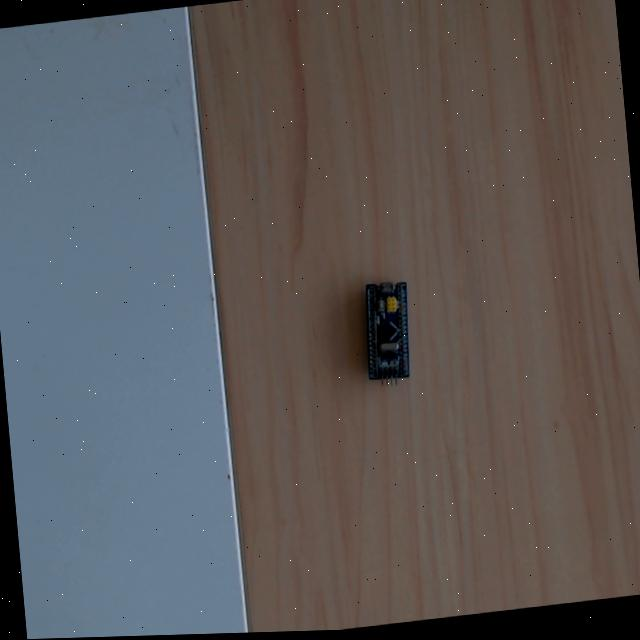STM32-Bluepill: (364, 279, 412, 381)
